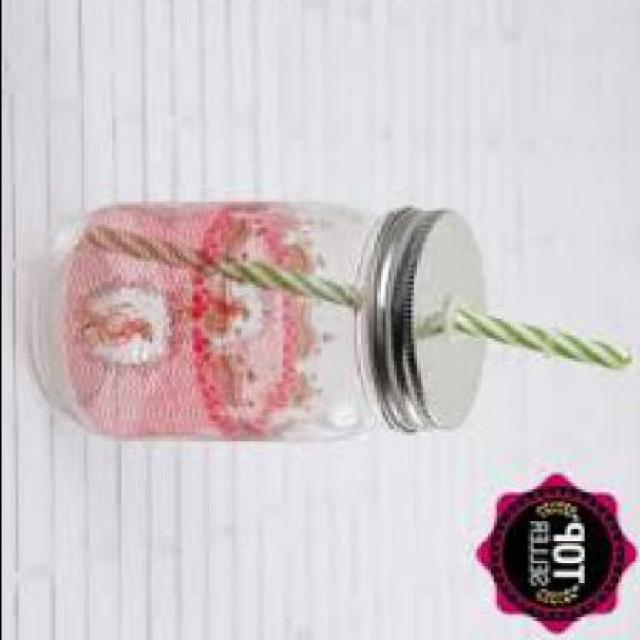GLASS: (23, 202, 386, 442)
METAL: (376, 216, 486, 438)
